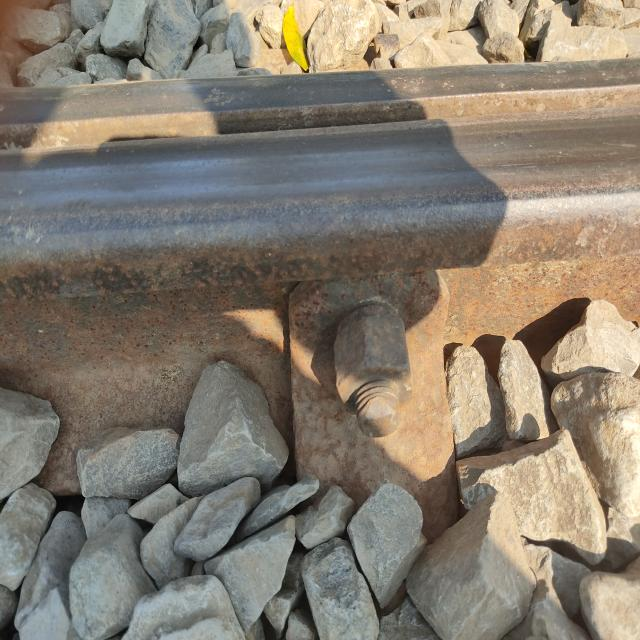No Fault: (92, 153, 590, 250)
